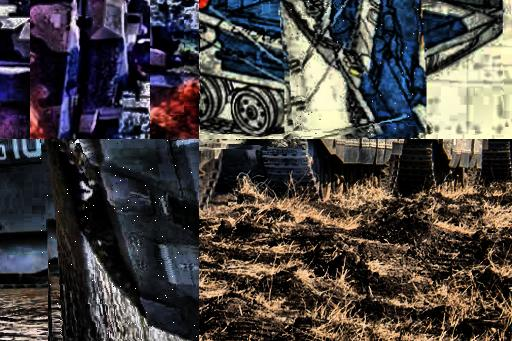tanks: (55, 140, 200, 341), (280, 1, 427, 136), (31, 1, 151, 140), (219, 140, 407, 194), (399, 140, 485, 194), (483, 140, 512, 181)
